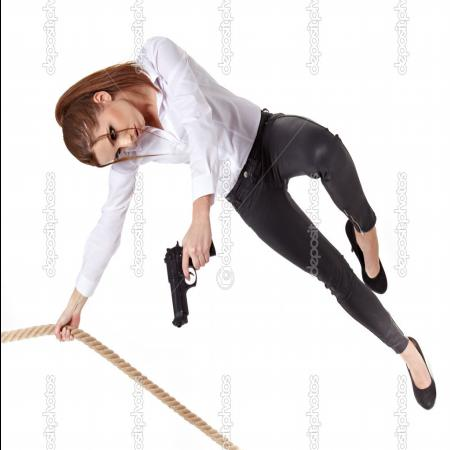Pistol: (161, 237, 217, 329)
